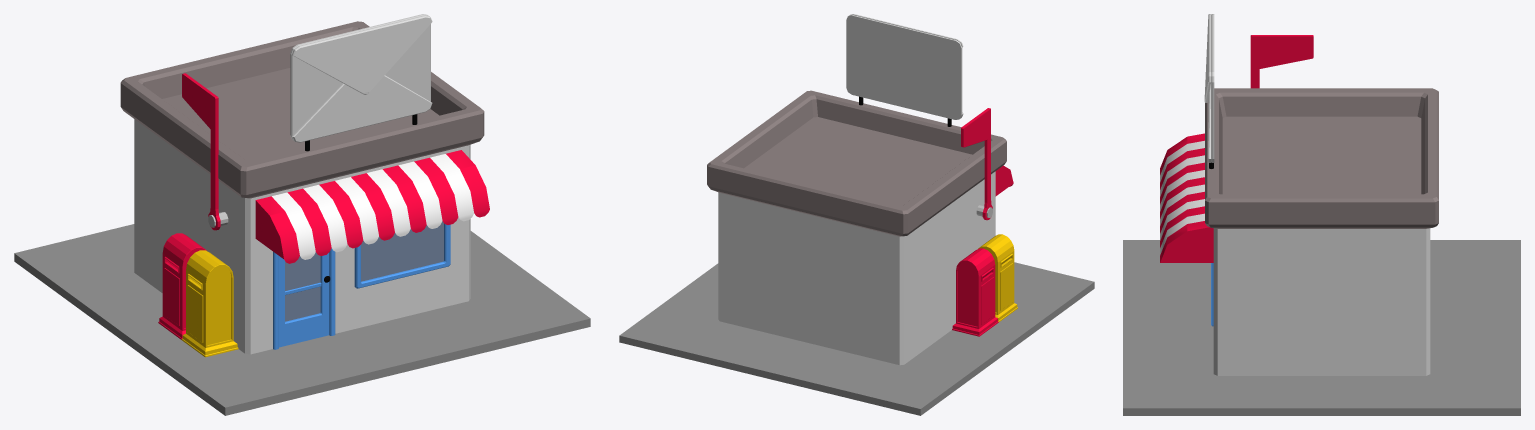
File: post_office.glb
3 renders of one model, left to right at view 1: azimuth 30°, elevation 25°; view 2: azimuth 150°, elevation 25°; view 3: azimuth 270°, elevation 25°, orthographic. The views are drawn at different scales.
Bounding box in the file's own units: 8.58 × 6.88 × 8.58.
